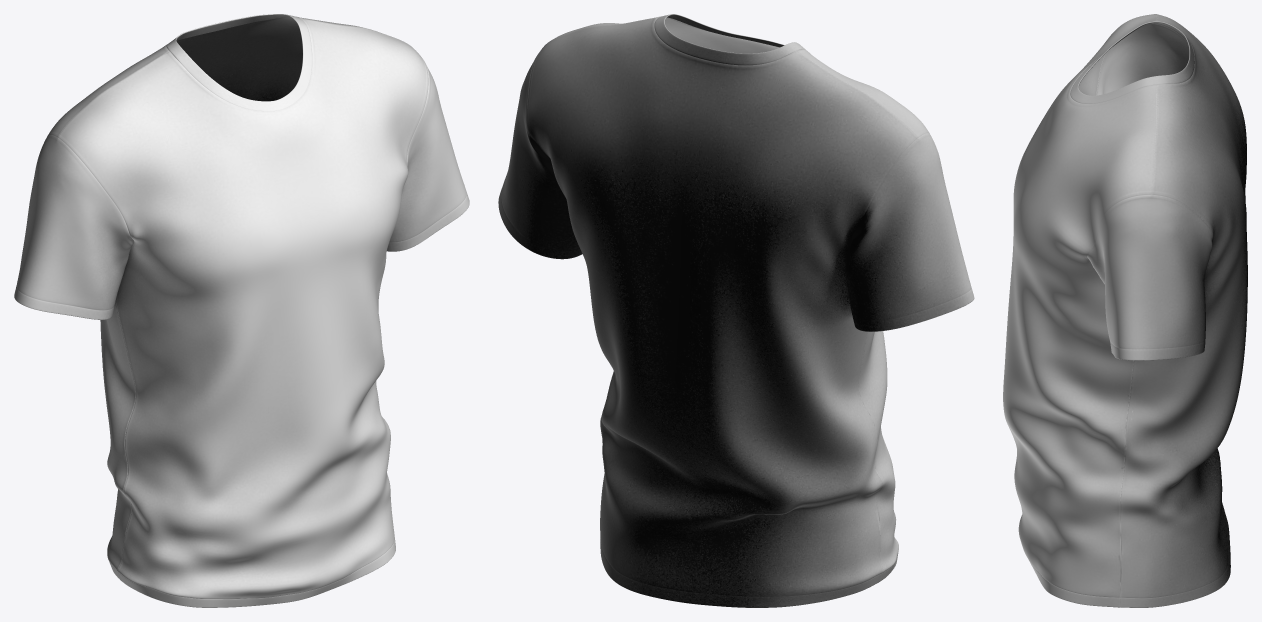
Rendered from shirt_baked.glb.
The picture shows the model from 3 angles, left to right: view 1: azimuth 30°, elevation 25°; view 2: azimuth 150°, elevation 25°; view 3: azimuth 270°, elevation 25°; orthographic projection. The views are drawn at different scales.
Visible parts, largest first — view 1: T_Shirt_male; view 2: T_Shirt_male; view 3: T_Shirt_male.
Boxes of the visible parts, box(x1,y1,x2,y2) form: T_Shirt_male: box(14, 14, 469, 607); T_Shirt_male: box(498, 14, 974, 607); T_Shirt_male: box(1003, 14, 1247, 607).
Size of the model in its own units: 0.55 by 0.6129 by 0.269.
Materials: 1 (1 with a texture image).
